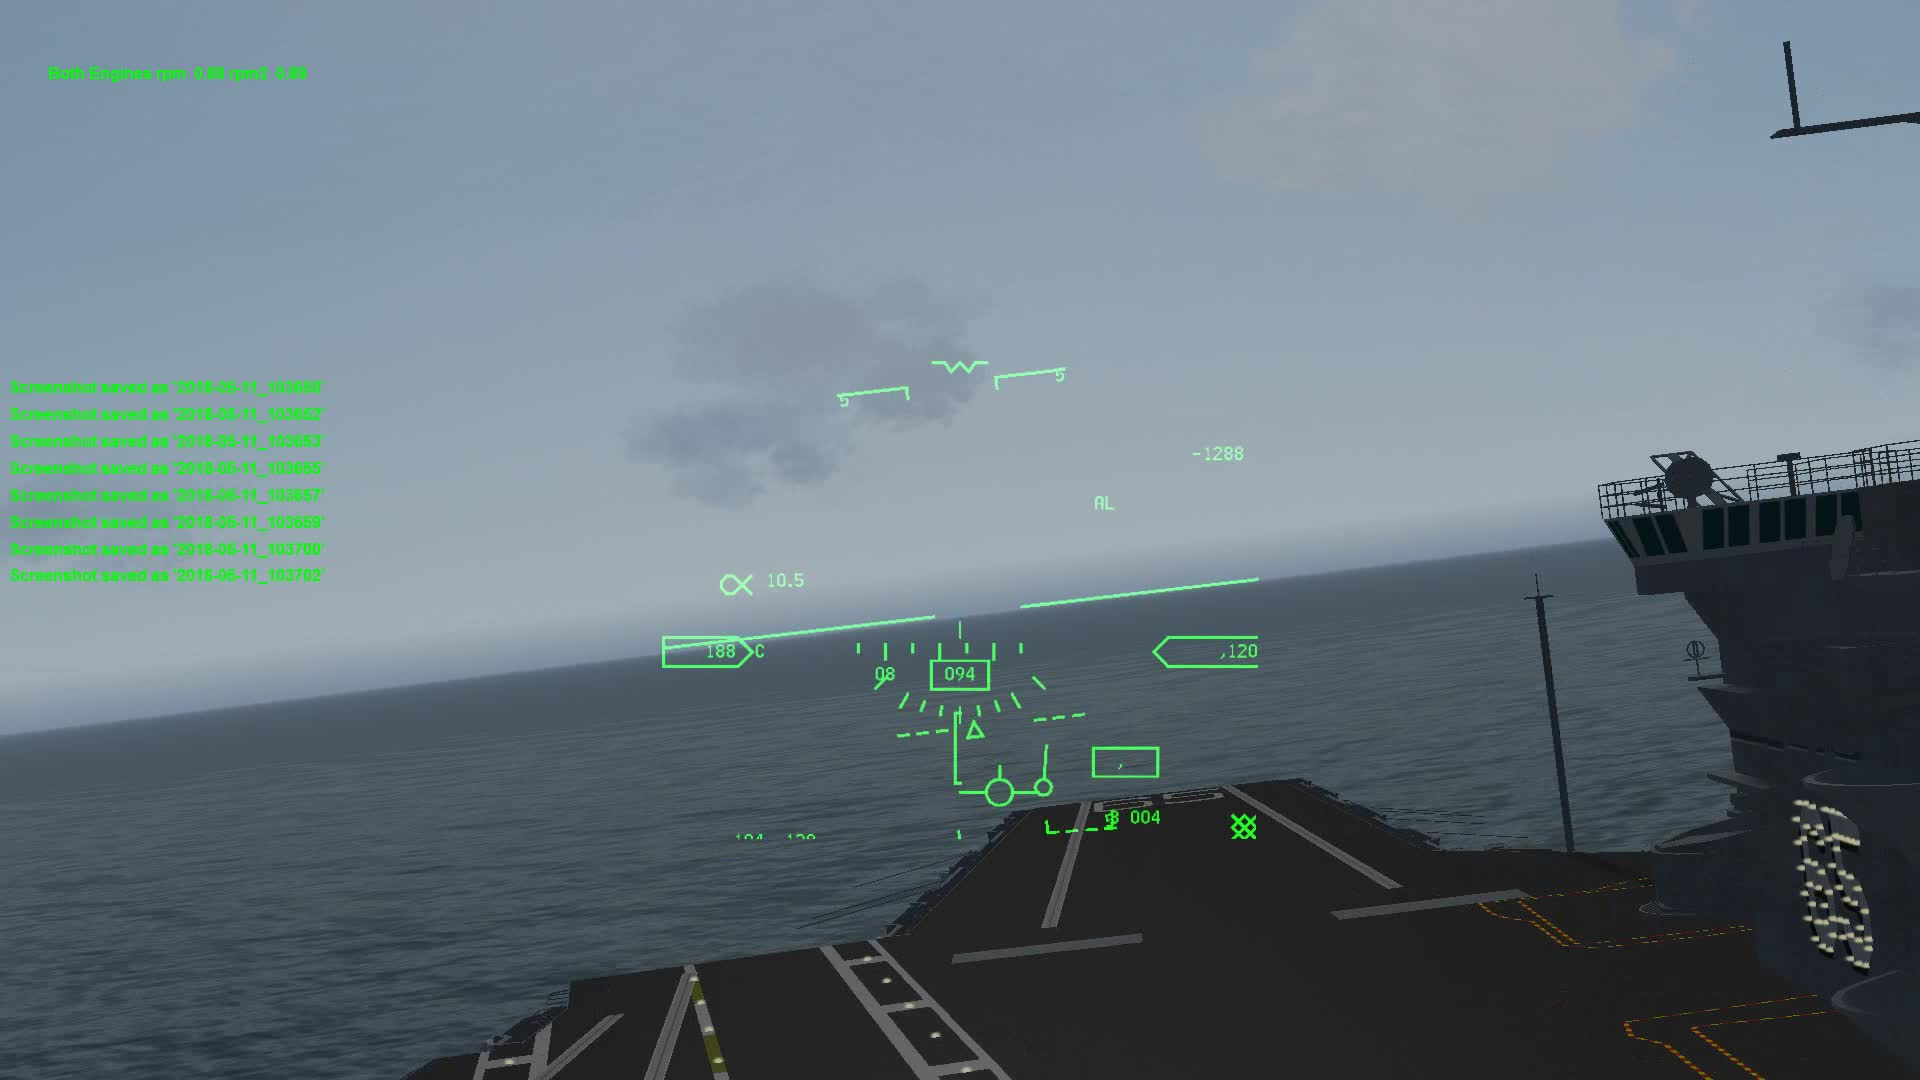speed vector: (963, 756, 1063, 808)
